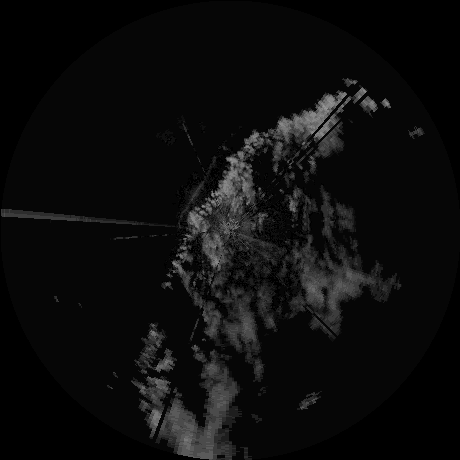frontgust: (175, 155, 215, 230)
